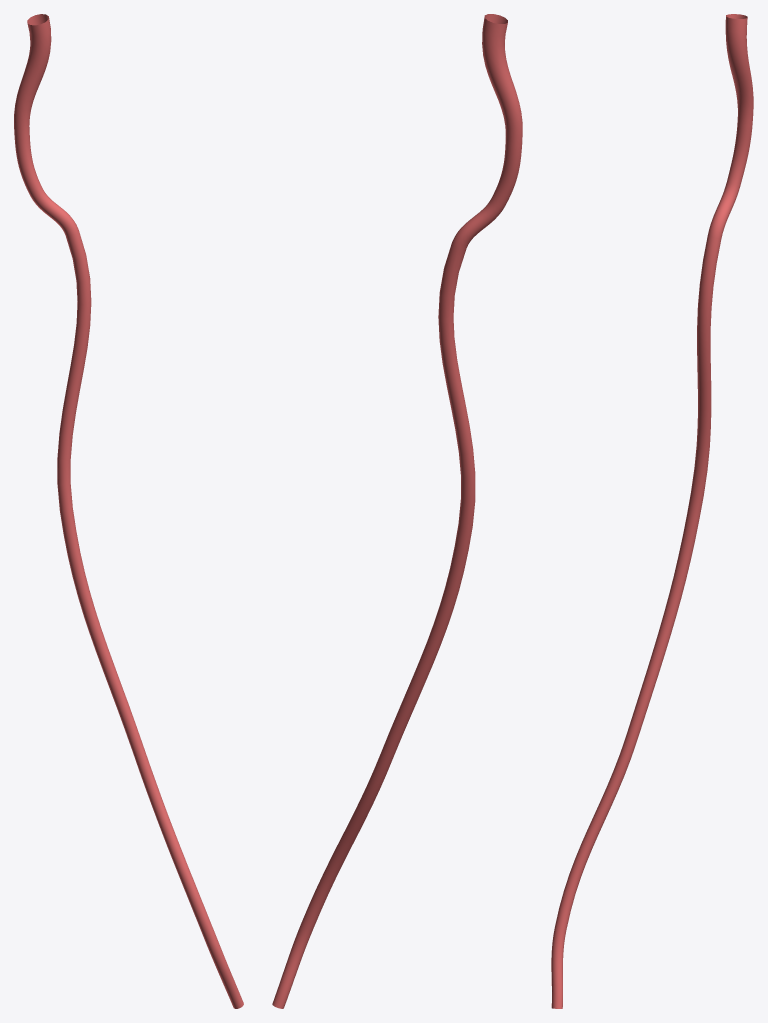
File: Ulnar_artery.l_BezierCurve.202.glb
3 renders of one model, left to right at view 1: azimuth 30°, elevation 25°; view 2: azimuth 210°, elevation 25°; view 3: azimuth 270°, elevation 25°, orthographic. The views are drawn at different scales.
Parts seen in each view (by area): view 1: Ulnar_artery.l_BezierCurve.202; view 2: Ulnar_artery.l_BezierCurve.202; view 3: Ulnar_artery.l_BezierCurve.202.
Part boxes in pixels (bbox=[...]): Ulnar_artery.l_BezierCurve.202: bbox=[14, 14, 243, 1008]; Ulnar_artery.l_BezierCurve.202: bbox=[272, 14, 522, 1008]; Ulnar_artery.l_BezierCurve.202: bbox=[551, 14, 753, 1008].
Bounding box in the file's own units: 0.0339 × 0.2312 × 0.0449.
